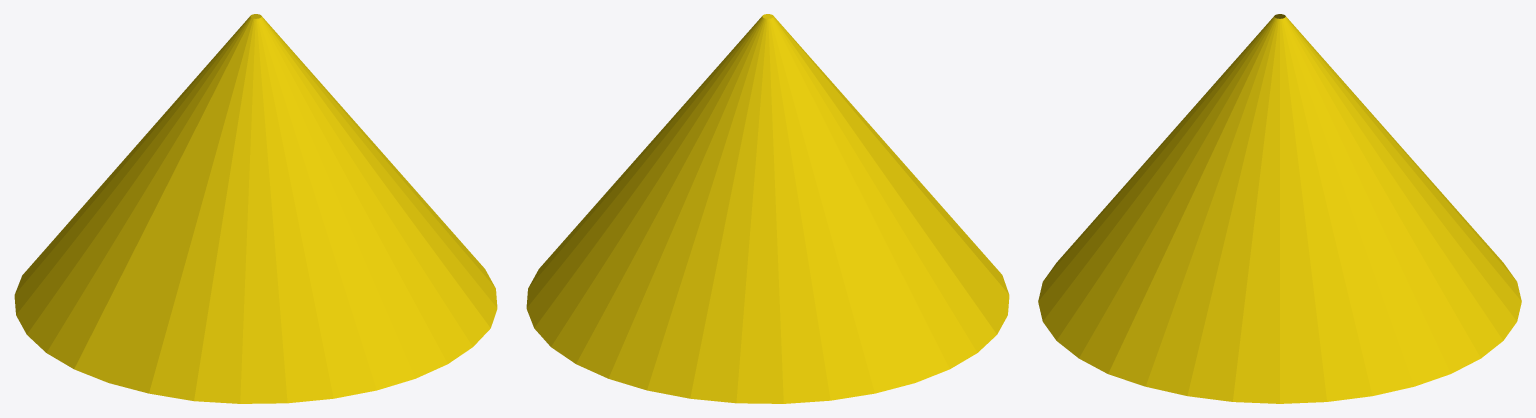
The model's file is Cone_Yellow_Parking.gltf.
3 renders of one model, left to right at view 1: azimuth 30°, elevation 25°; view 2: azimuth 150°, elevation 25°; view 3: azimuth 270°, elevation 25°, orthographic.
Parts seen in each view (by area): view 1: Cone; view 2: Cone; view 3: Cone.
Boxes of the visible parts, left/top/right/bottom form: Cone: left=14, top=14, right=497, bottom=403; Cone: left=526, top=14, right=1009, bottom=403; Cone: left=1038, top=14, right=1521, bottom=403.
Size of the model in its own units: 0.75 by 0.4881 by 0.75.
